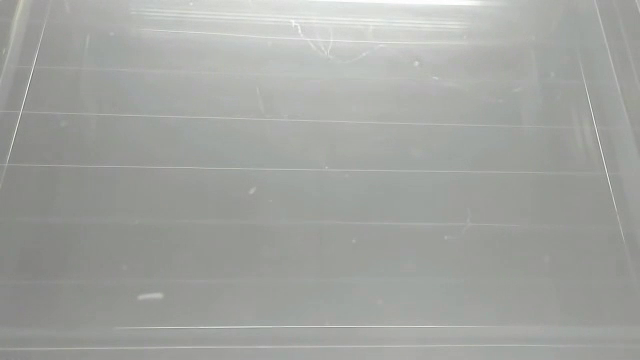alpha: (134, 289, 167, 307), (246, 185, 258, 198)
